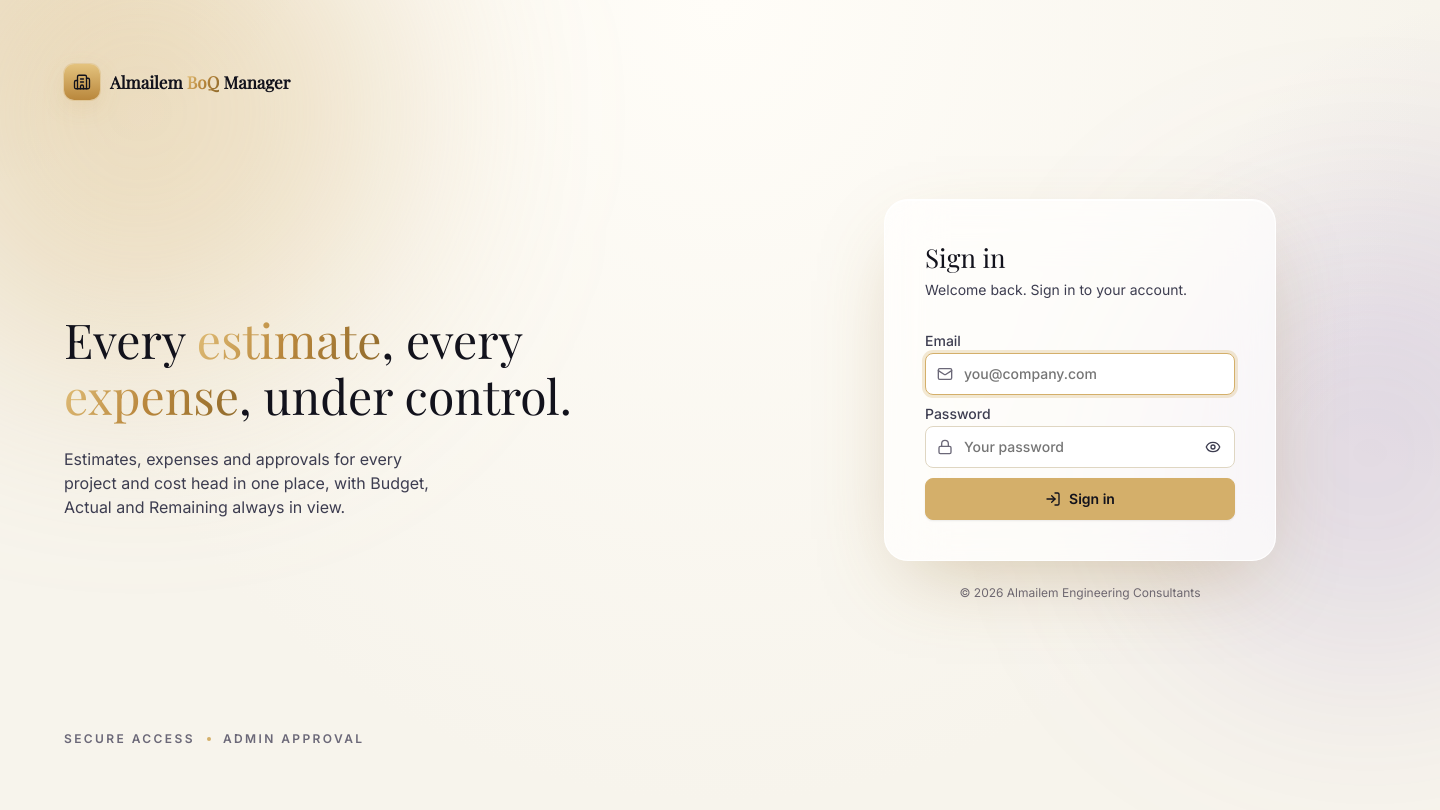
Test: Sign-in page › shows the server's refusal and lets the person try again
The width and height of the screenshot is (1440, 810).
Step 1. Type "a@b.com" into the field labelled "Email" → (1080, 374), box [925,352,1235,394]
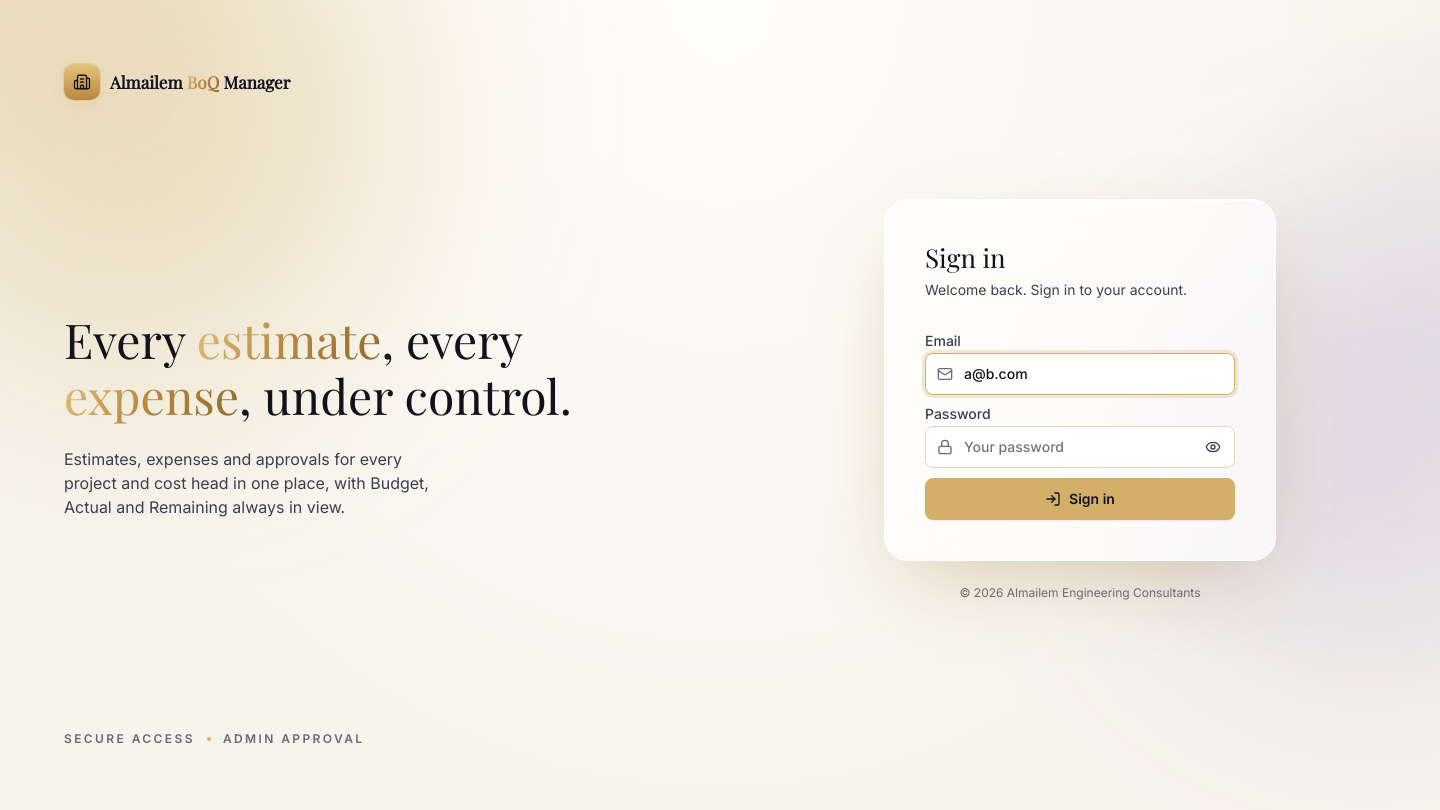
Step 2. Type "x" into the password field labelled "Password" → (1080, 446), box [925,426,1235,468]
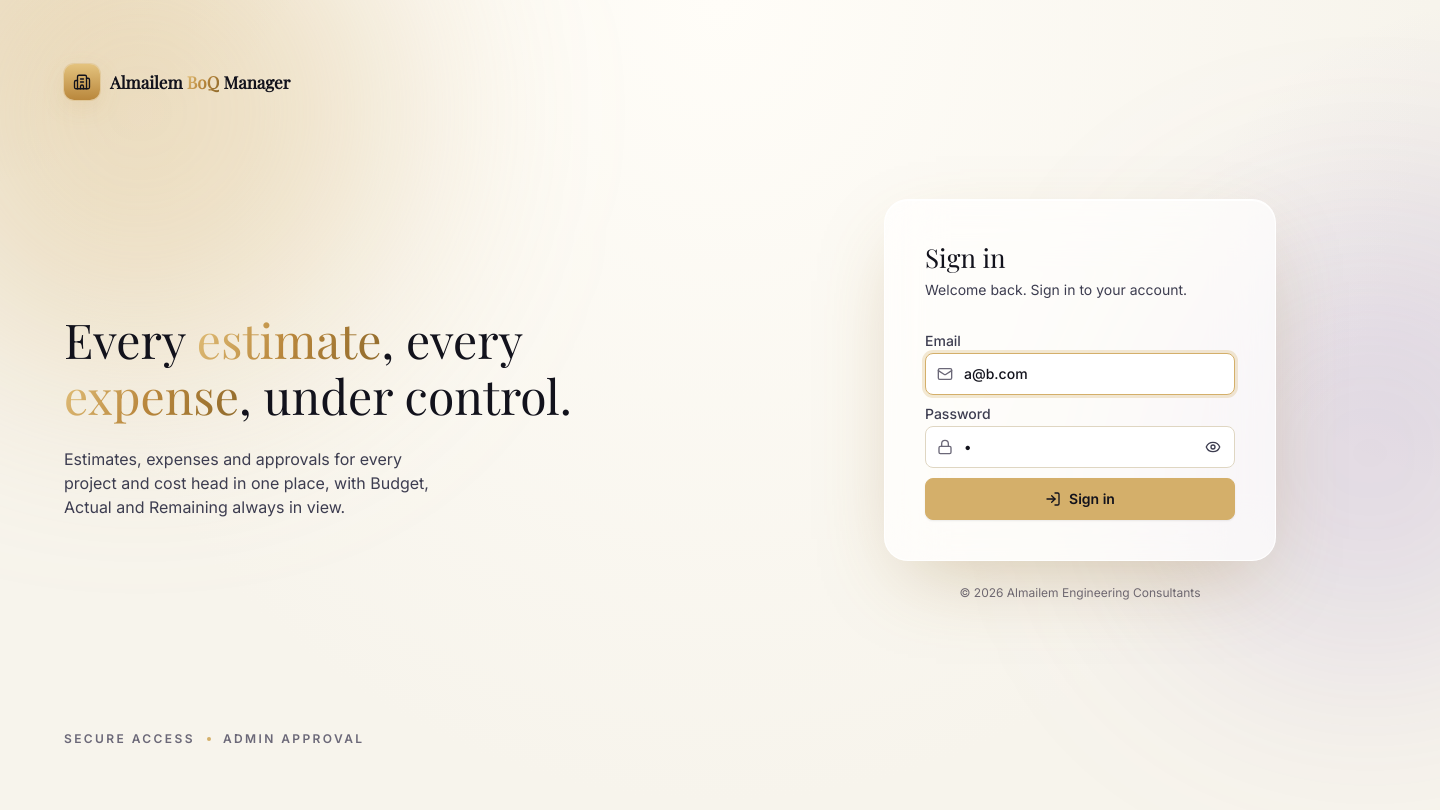
Step 3. Click the button "Sign in" → (1080, 498), box [925,478,1235,520]
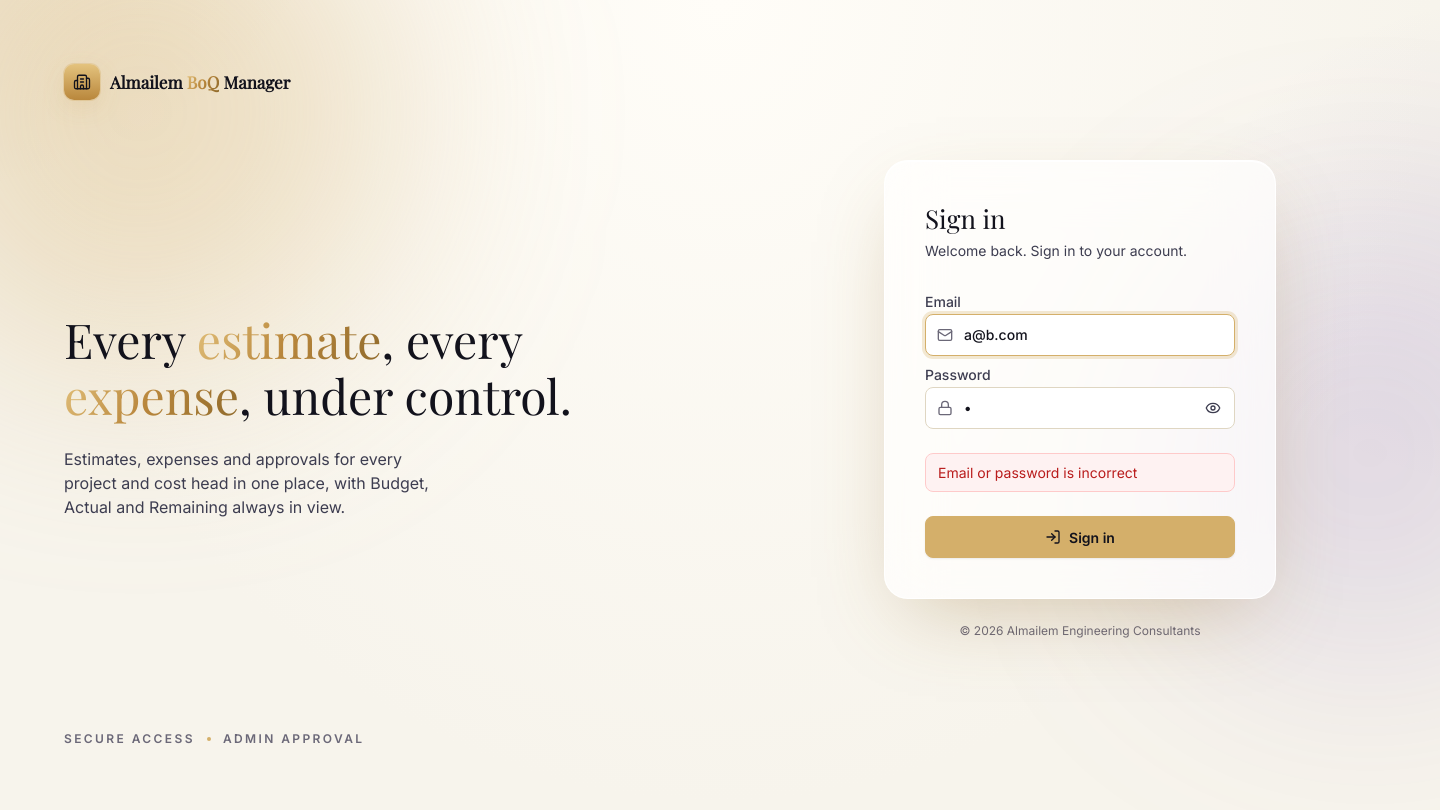
Expected: the button "Sign in" is enabled, [925,516,1235,558]
Expected: the message reads "Email or password is incorrect", [938,464,1137,481]
